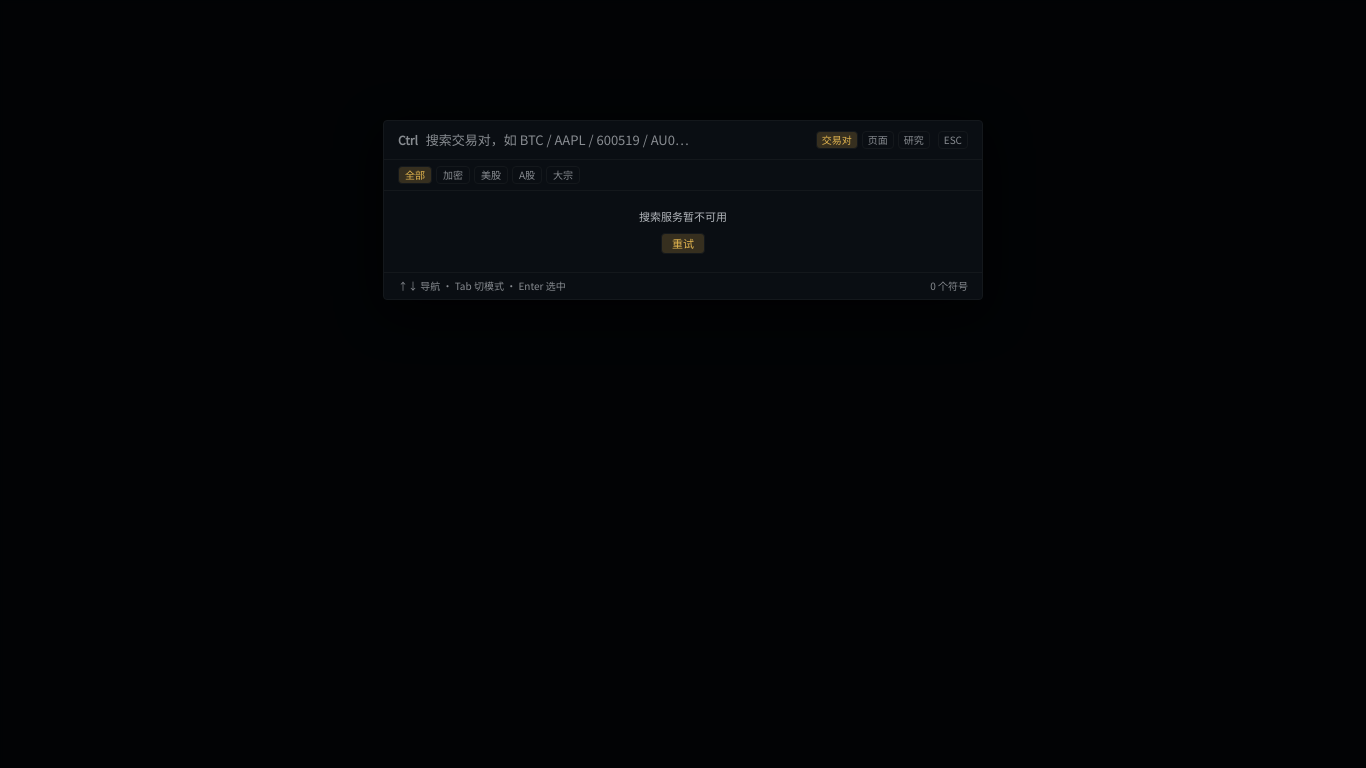
CmdkPanel › 研究动作模式:空态诚实提示
Click the button with test id "mode-chip-action". click: click(914, 140)
box: [898,131,930,149]
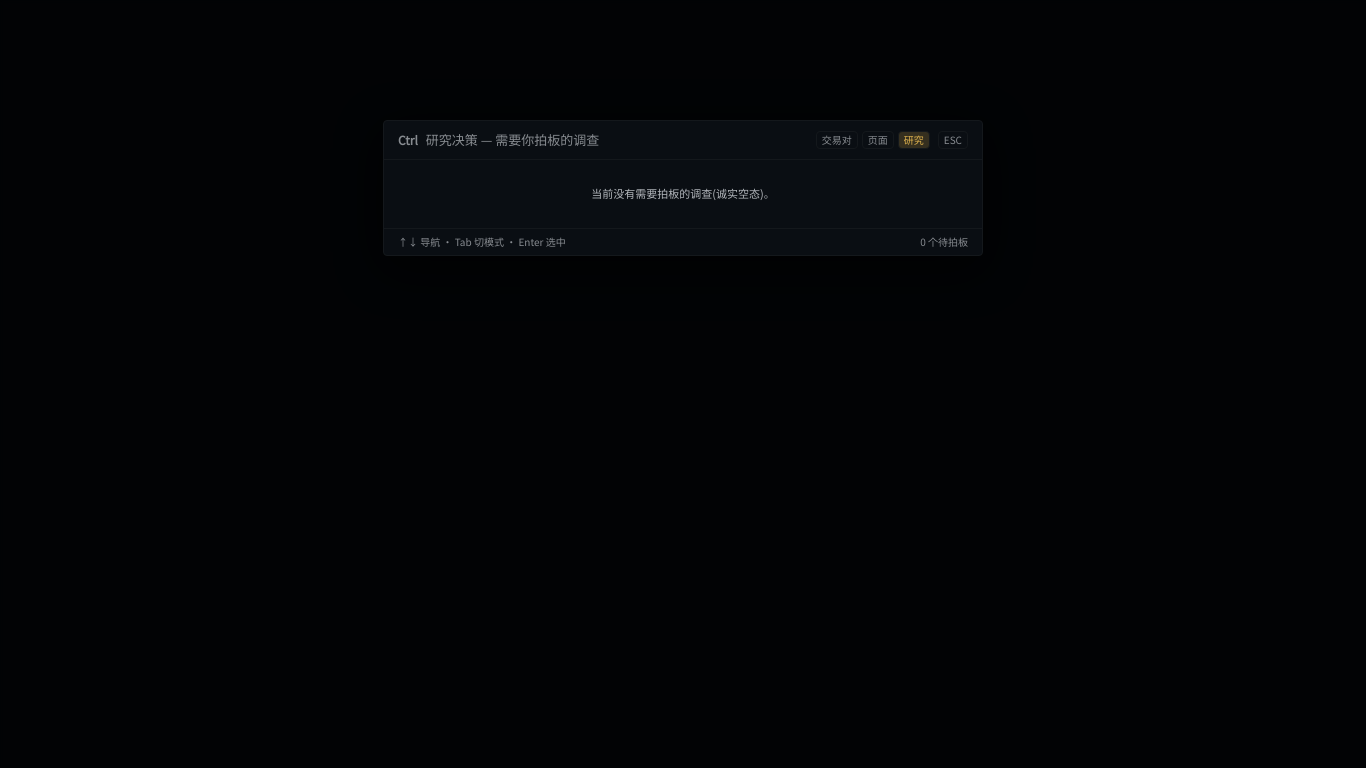
Now the text "当前没有需要拍板的调查(诚实空态)。" is shown, box [591,185,775,201]
